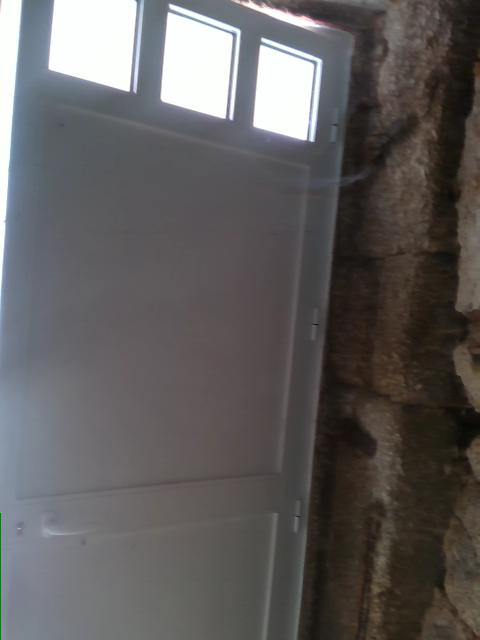door: (1, 0, 359, 639)
